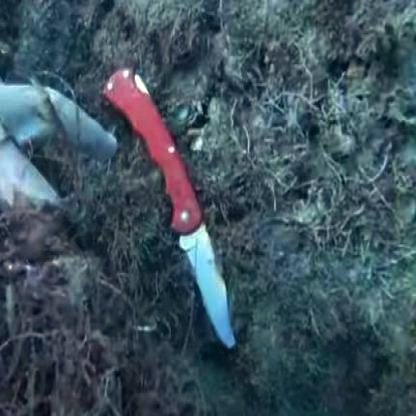misc: (117, 87, 267, 364)
